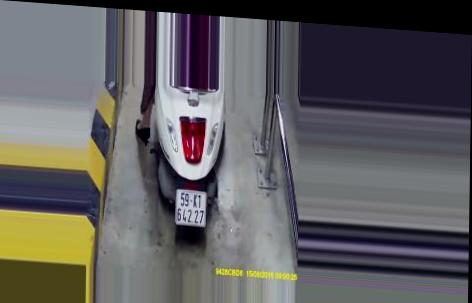License_Plate: (174, 186, 209, 232)
